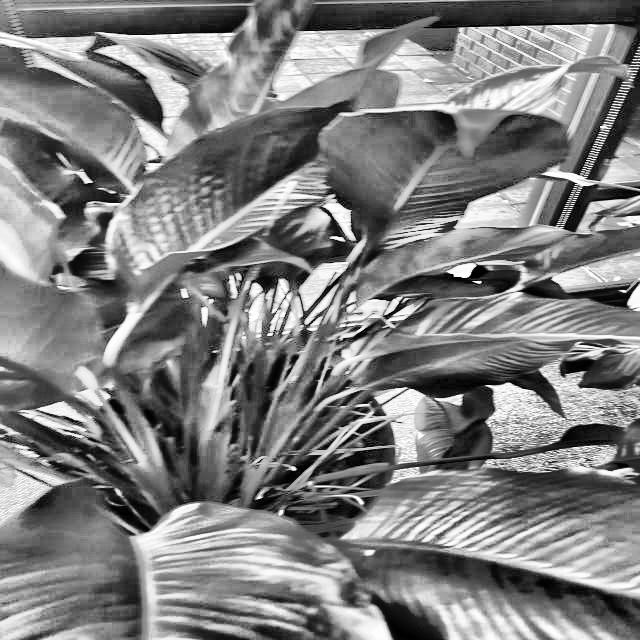plants: (43, 158, 530, 640)
